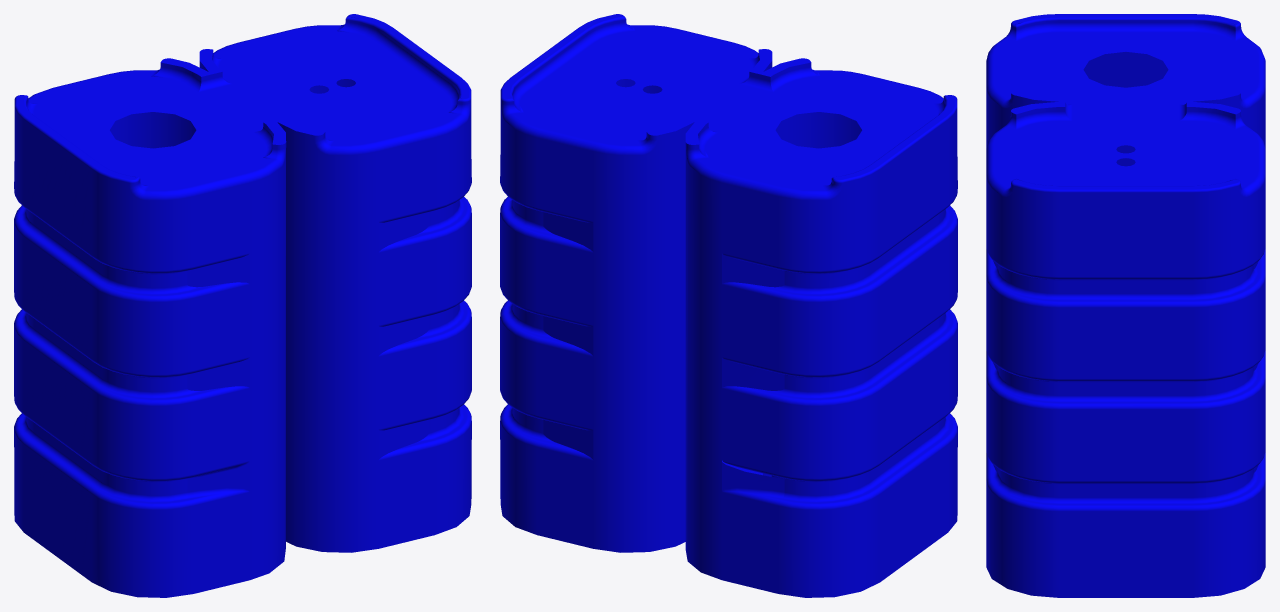
The model's file is vessel.fbx.
The picture shows the model from 3 angles, left to right: view 1: azimuth 30°, elevation 25°; view 2: azimuth 150°, elevation 25°; view 3: azimuth 270°, elevation 25°; orthographic projection.
Visible parts, largest first — view 1: Mesh_48; view 2: Mesh_48; view 3: Mesh_48.
Part boxes in pixels (<box>): Mesh_48: <box>14,14,471,597</box>; Mesh_48: <box>500,14,957,597</box>; Mesh_48: <box>986,14,1265,597</box>.
Size of the model in its own units: 172 by 185 by 115.
